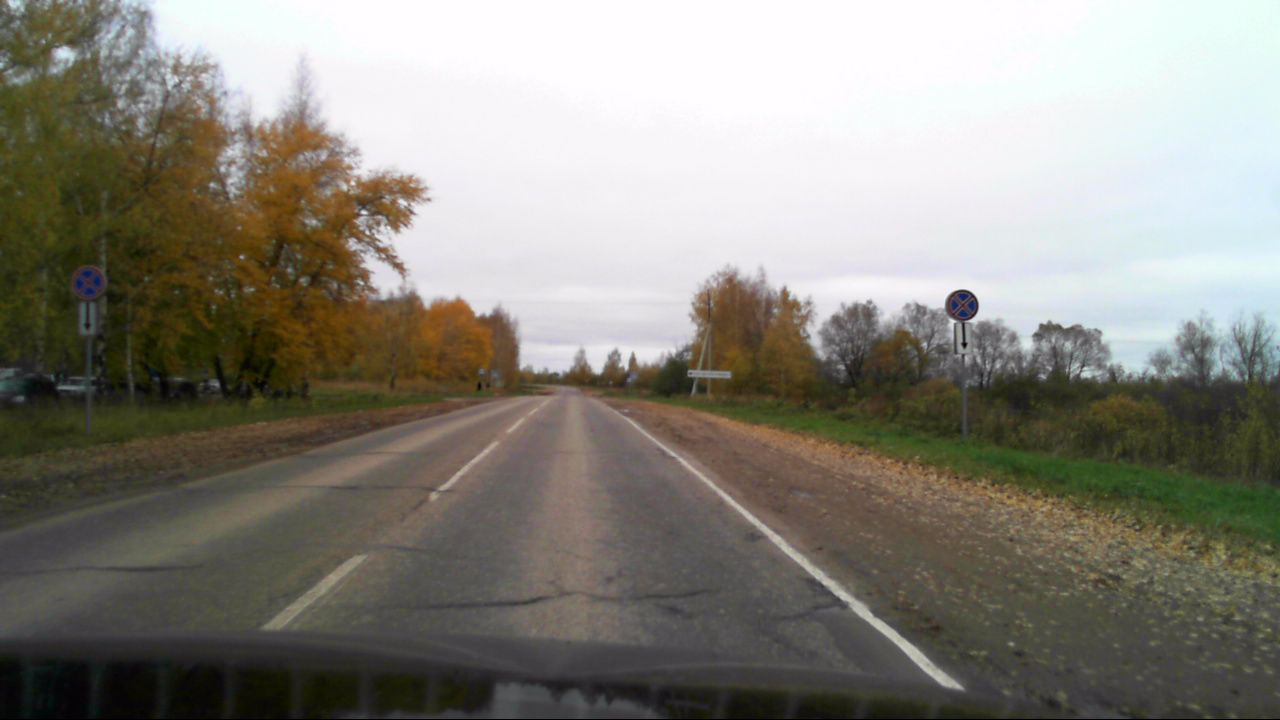No Parking: (70, 265, 105, 300)
